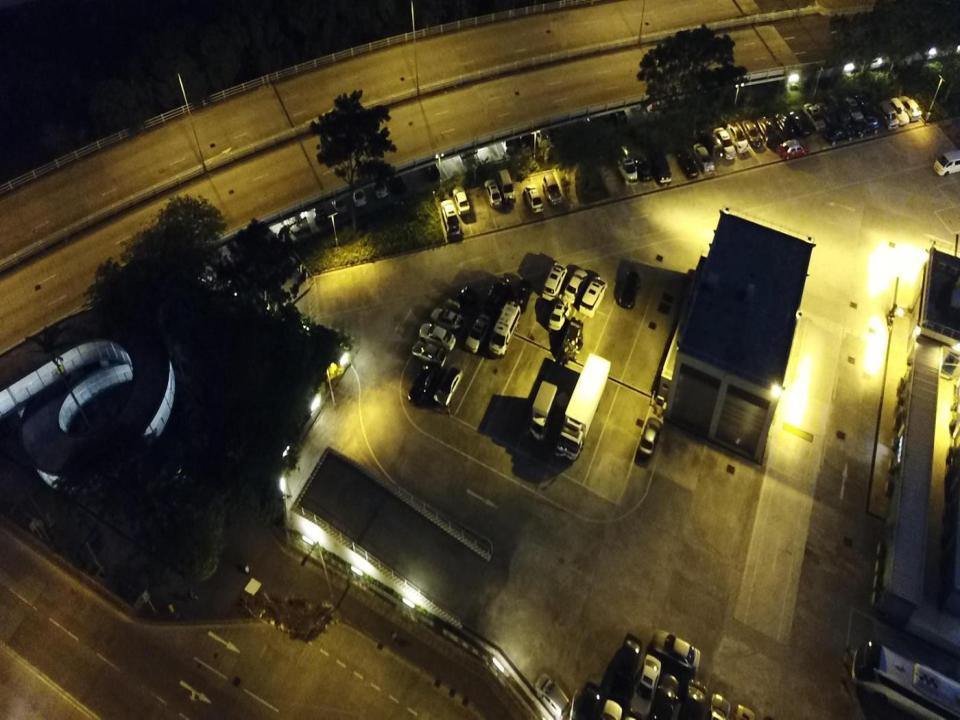bus: (851, 639, 960, 717)
car: (610, 633, 642, 703), (652, 628, 700, 672), (630, 653, 662, 719), (534, 673, 571, 718), (651, 673, 679, 719), (679, 679, 707, 719), (572, 684, 603, 719), (638, 416, 662, 459), (542, 263, 568, 302), (484, 276, 512, 312), (465, 314, 490, 354), (696, 124, 723, 158), (564, 270, 588, 305), (712, 125, 736, 159), (651, 144, 671, 184), (674, 147, 698, 179), (620, 271, 640, 309), (441, 199, 461, 237), (548, 298, 570, 332), (726, 120, 748, 154), (693, 142, 715, 174), (740, 118, 762, 149), (543, 172, 563, 206), (758, 116, 780, 146), (777, 139, 810, 159), (512, 278, 532, 310), (498, 169, 516, 204), (899, 95, 922, 122), (823, 125, 854, 145), (804, 103, 826, 131), (878, 100, 898, 130), (778, 112, 800, 139), (790, 109, 812, 136), (851, 118, 879, 138), (524, 185, 543, 214), (634, 153, 653, 182), (890, 97, 909, 126), (452, 186, 470, 216), (845, 97, 864, 123), (485, 178, 502, 207), (855, 93, 875, 117), (819, 103, 839, 126), (350, 180, 367, 206), (499, 128, 516, 153), (521, 123, 538, 148), (330, 190, 346, 216), (371, 171, 387, 197), (390, 167, 406, 193), (424, 155, 440, 181)
truck: (555, 351, 611, 461), (528, 380, 557, 443)
van: (488, 301, 521, 357), (578, 276, 608, 318), (615, 142, 638, 185), (933, 150, 960, 176), (829, 94, 850, 124), (312, 181, 326, 223)
